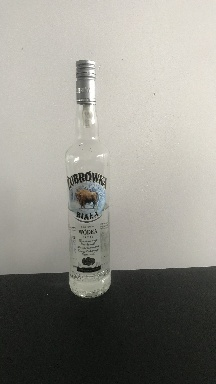butelka: (63, 56, 112, 301)
